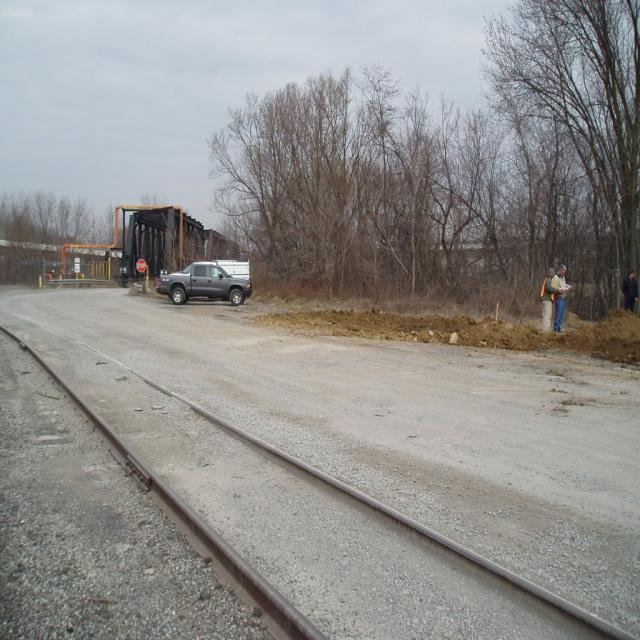Pedestrians: (555, 261, 573, 337), (540, 262, 554, 340), (621, 267, 638, 321)
Pickup Trucks: (157, 266, 252, 306)
